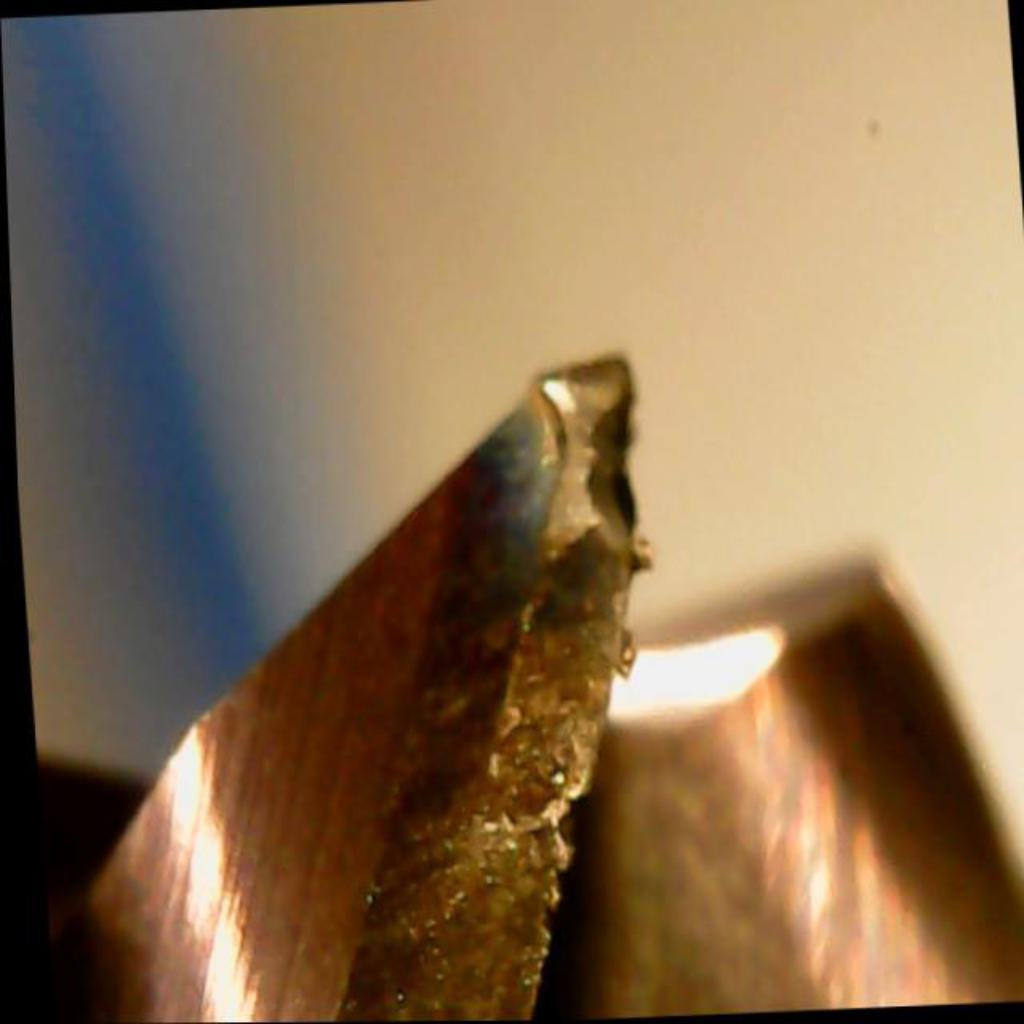Tool-wear-class-2: (437, 348, 681, 950)
